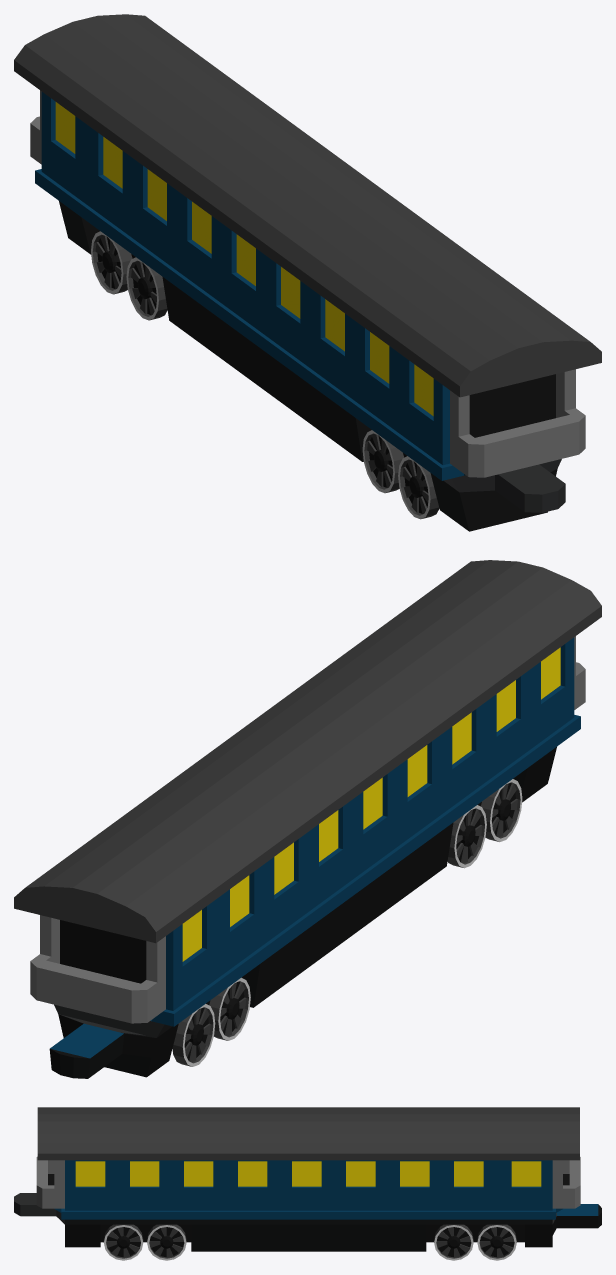
The model's file is CarPassengers.fbx.
3 views of the same model, one above another, from view 1: azimuth 30°, elevation 25°; view 2: azimuth 150°, elevation 25°; view 3: azimuth 270°, elevation 25° (orthographic). The views are drawn at different scales.
Parts seen in each view (by area): view 1: Cube.009, Cube.016, Cylinder.019, Cylinder.017, Cylinder.018, Cylinder.020; view 2: Cube.009, Cube.016, Cylinder.020, Cylinder.017, Cylinder.019, Cylinder.018; view 3: Cube.009, Cube.016, Cylinder.017, Cylinder.019, Cylinder.020, Cylinder.018, Cube.014.
Part boxes in pixels (x1=…): Cube.009: x1=14, y1=14, x2=601, y2=531; Cube.016: x1=55, y1=102, x2=433, y2=416; Cylinder.019: x1=126, y1=257, x2=167, y2=320; Cylinder.017: x1=398, y1=456, x2=439, y2=519; Cylinder.018: x1=362, y1=430, x2=403, y2=493; Cylinder.020: x1=91, y1=231, x2=132, y2=294; Cube.009: x1=14, y1=560, x2=601, y2=1078; Cube.016: x1=182, y1=647, x2=560, y2=961; Cylinder.020: x1=172, y1=1004, x2=215, y2=1066; Cylinder.017: x1=480, y1=779, x2=522, y2=841; Cylinder.019: x1=209, y1=977, x2=250, y2=1040; Cylinder.018: x1=447, y1=805, x2=486, y2=868; Cube.009: x1=14, y1=1107, x2=601, y2=1251; Cube.016: x1=75, y1=1161, x2=541, y2=1186; Cylinder.017: x1=103, y1=1224, x2=143, y2=1260; Cylinder.019: x1=434, y1=1224, x2=473, y2=1260; Cylinder.020: x1=477, y1=1224, x2=516, y2=1260; Cylinder.018: x1=147, y1=1224, x2=186, y2=1260; Cube.014: x1=100, y1=1224, x2=524, y2=1242.
Bounding box in the file's own units: 277 × 396 × 1632.
